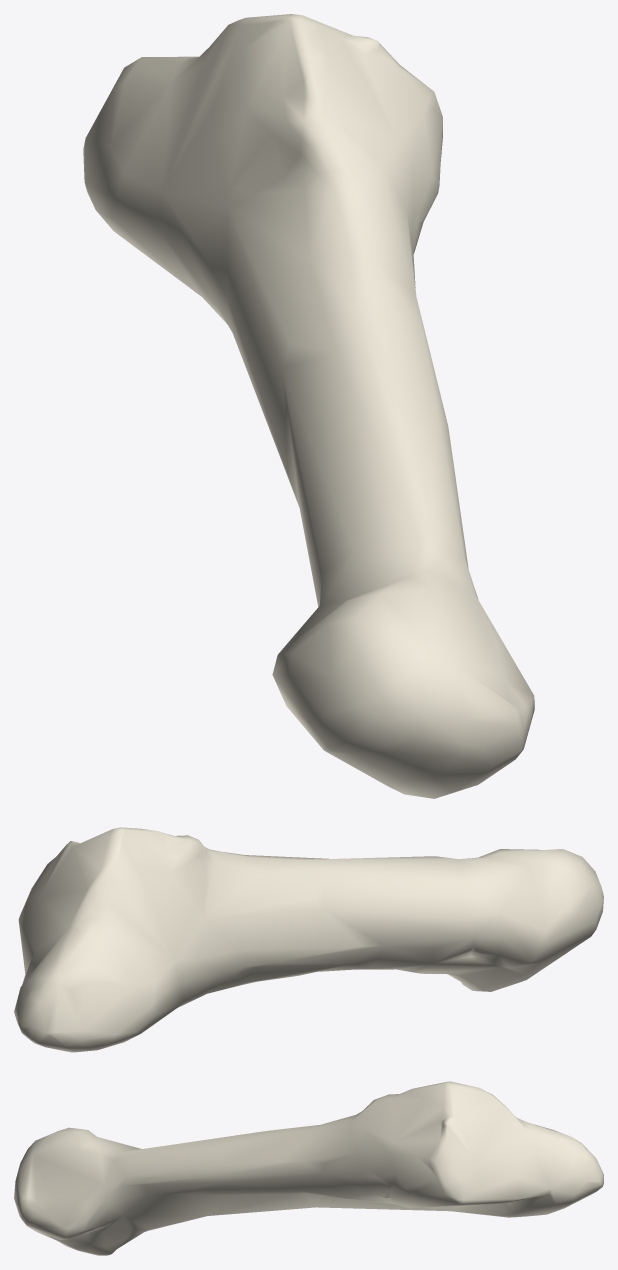
The picture shows the model from 3 angles, top to bottom: view 1: azimuth 30°, elevation 25°; view 2: azimuth 150°, elevation 25°; view 3: azimuth 270°, elevation 25°; orthographic projection. The views are drawn at different scales.
Visible parts, largest first — view 1: ZA_32252c5a8288c33b; view 2: ZA_32252c5a8288c33b; view 3: ZA_32252c5a8288c33b.
Part boxes in pixels (x1,y1,x2,y2): ZA_32252c5a8288c33b: (83, 14, 534, 798); ZA_32252c5a8288c33b: (14, 827, 603, 1052); ZA_32252c5a8288c33b: (14, 1081, 603, 1255).
Size of the model in its own units: 0.037 by 0.0312 by 0.0737.
